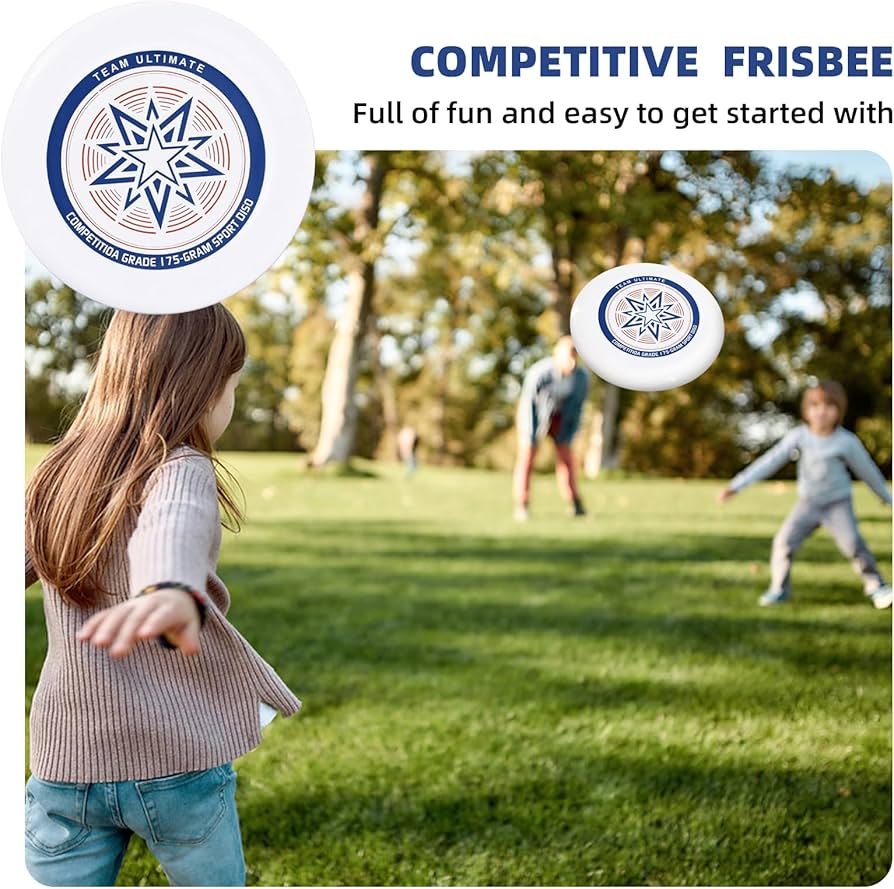disc: (7, 3, 315, 315), (559, 262, 731, 390)
